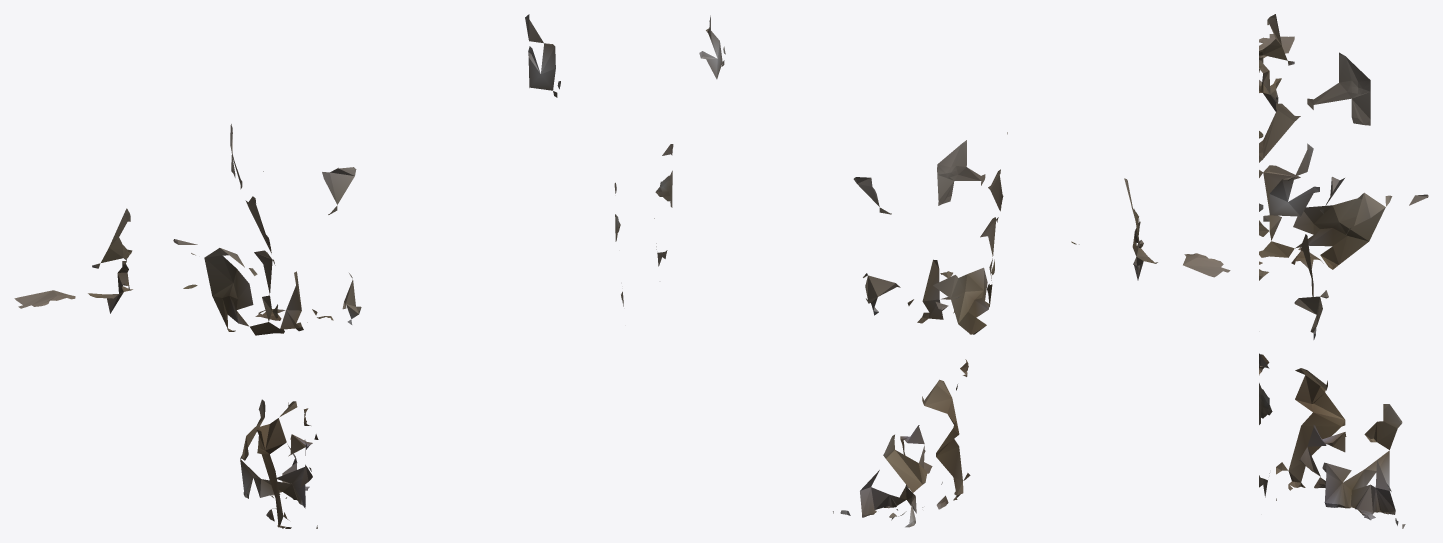
File: coarse.glb
3 views of the same model, side by side, from view 1: azimuth 30°, elevation 25°; view 2: azimuth 150°, elevation 25°; view 3: azimuth 270°, elevation 25° (orthographic). The views are drawn at different scales.
Size of the model in its own units: 2.06 by 1.47 by 0.4751.
